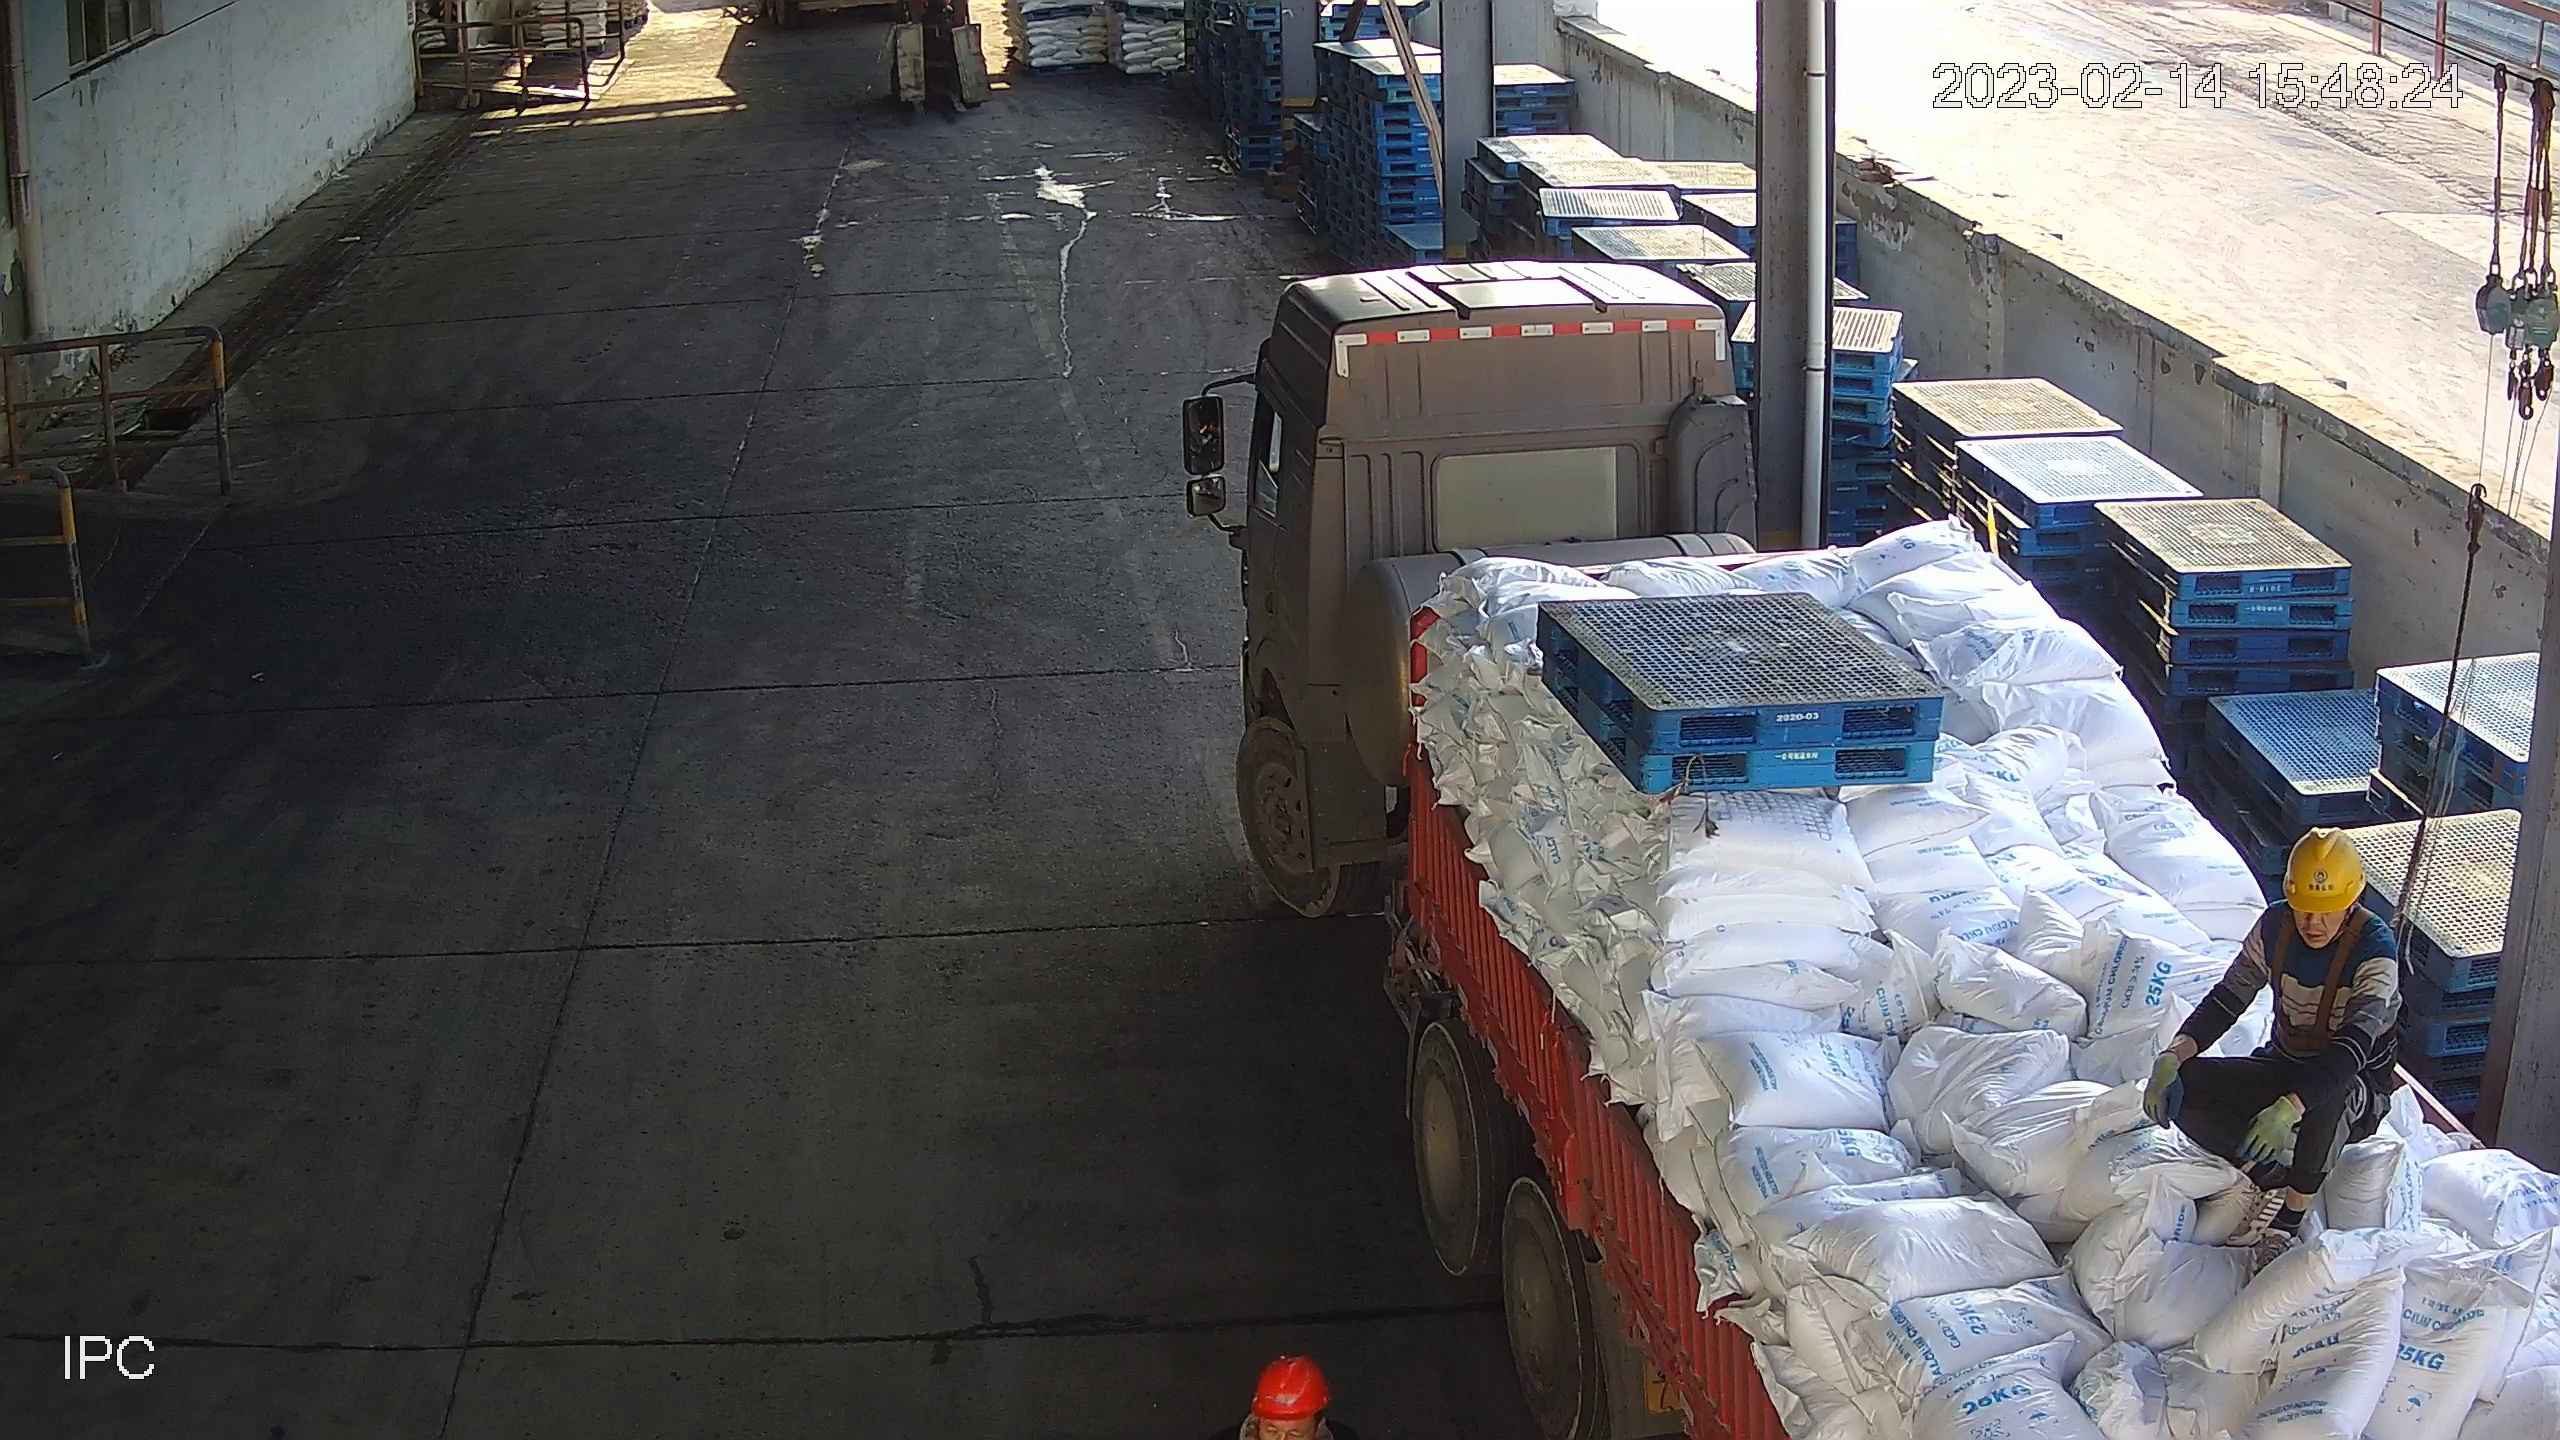belt: (2269, 902, 2412, 1052)
head: (2255, 826, 2400, 974)
helmet: (2283, 825, 2368, 915)
people: (2141, 826, 2404, 1272)
truck: (1233, 257, 2560, 1440)
